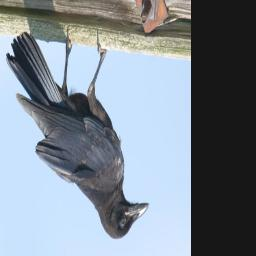Crow: (5, 32, 149, 239)
